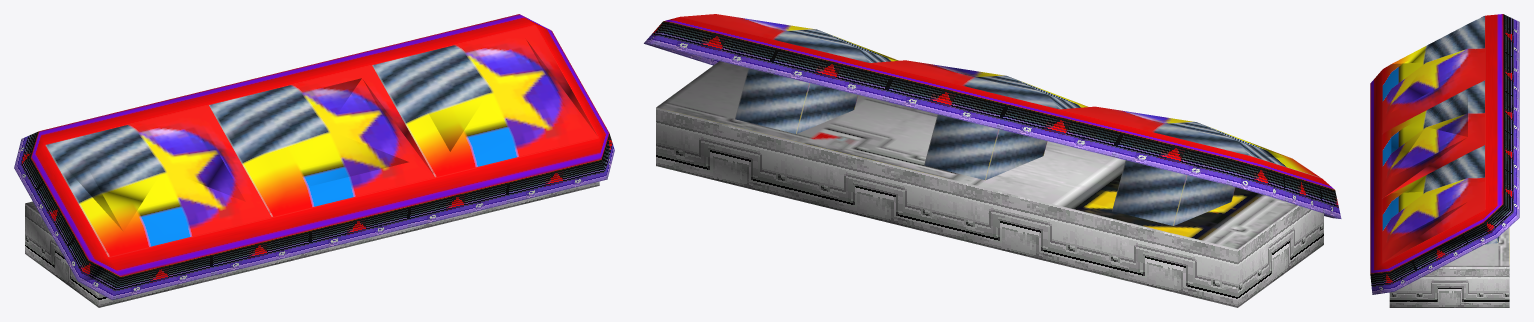
The model's file is Tripe.obj.
3 renders of one model, left to right at view 1: azimuth 30°, elevation 25°; view 2: azimuth 150°, elevation 25°; view 3: azimuth 270°, elevation 25°, orthographic. The views are drawn at different scales.
Parts seen in each view (by area): view 1: Mesh_1281.rip, Mesh_1285.rip, Mesh_1284.rip, Mesh_1280.rip, Mesh_1278.rip, Mesh_1283.rip, Mesh_1282.rip; view 2: Mesh_1278.rip, Mesh_1279.rip, Mesh_1284.rip, Mesh_1277.rip, Mesh_1281.rip, Mesh_1285.rip, Mesh_1283.rip, Mesh_1282.rip; view 3: Mesh_1281.rip, Mesh_1285.rip, Mesh_1278.rip, Mesh_1284.rip, Mesh_1280.rip, Mesh_1283.rip, Mesh_1279.rip, Mesh_1282.rip.
Boxes of the visible parts, bbox=[...] form: Mesh_1281.rip: bbox=[45, 25, 598, 256]; Mesh_1285.rip: bbox=[31, 14, 609, 276]; Mesh_1284.rip: bbox=[112, 160, 607, 300]; Mesh_1280.rip: bbox=[124, 78, 571, 231]; Mesh_1278.rip: bbox=[25, 181, 599, 307]; Mesh_1283.rip: bbox=[14, 133, 614, 281]; Mesh_1282.rip: bbox=[14, 131, 609, 299]; Mesh_1278.rip: bbox=[656, 107, 1323, 307]; Mesh_1279.rip: bbox=[656, 61, 1297, 249]; Mesh_1284.rip: bbox=[652, 22, 1332, 217]; Mesh_1277.rip: bbox=[735, 68, 1235, 225]; Mesh_1281.rip: bbox=[680, 14, 1321, 178]; Mesh_1285.rip: bbox=[664, 17, 1334, 189]; Mesh_1283.rip: bbox=[644, 43, 1341, 218]; Mesh_1282.rip: bbox=[644, 21, 1339, 218]; Mesh_1281.rip: bbox=[1382, 16, 1484, 262]; Mesh_1285.rip: bbox=[1370, 14, 1503, 273]; Mesh_1278.rip: bbox=[1389, 267, 1509, 307]; Mesh_1284.rip: bbox=[1503, 14, 1519, 217]; Mesh_1280.rip: bbox=[1391, 62, 1467, 241]; Mesh_1283.rip: bbox=[1372, 222, 1497, 294]; Mesh_1279.rip: bbox=[1442, 227, 1509, 266]; Mesh_1282.rip: bbox=[1370, 204, 1519, 294].
Bounding box in the file's own units: 48.8 × 10.68 × 14.49.
